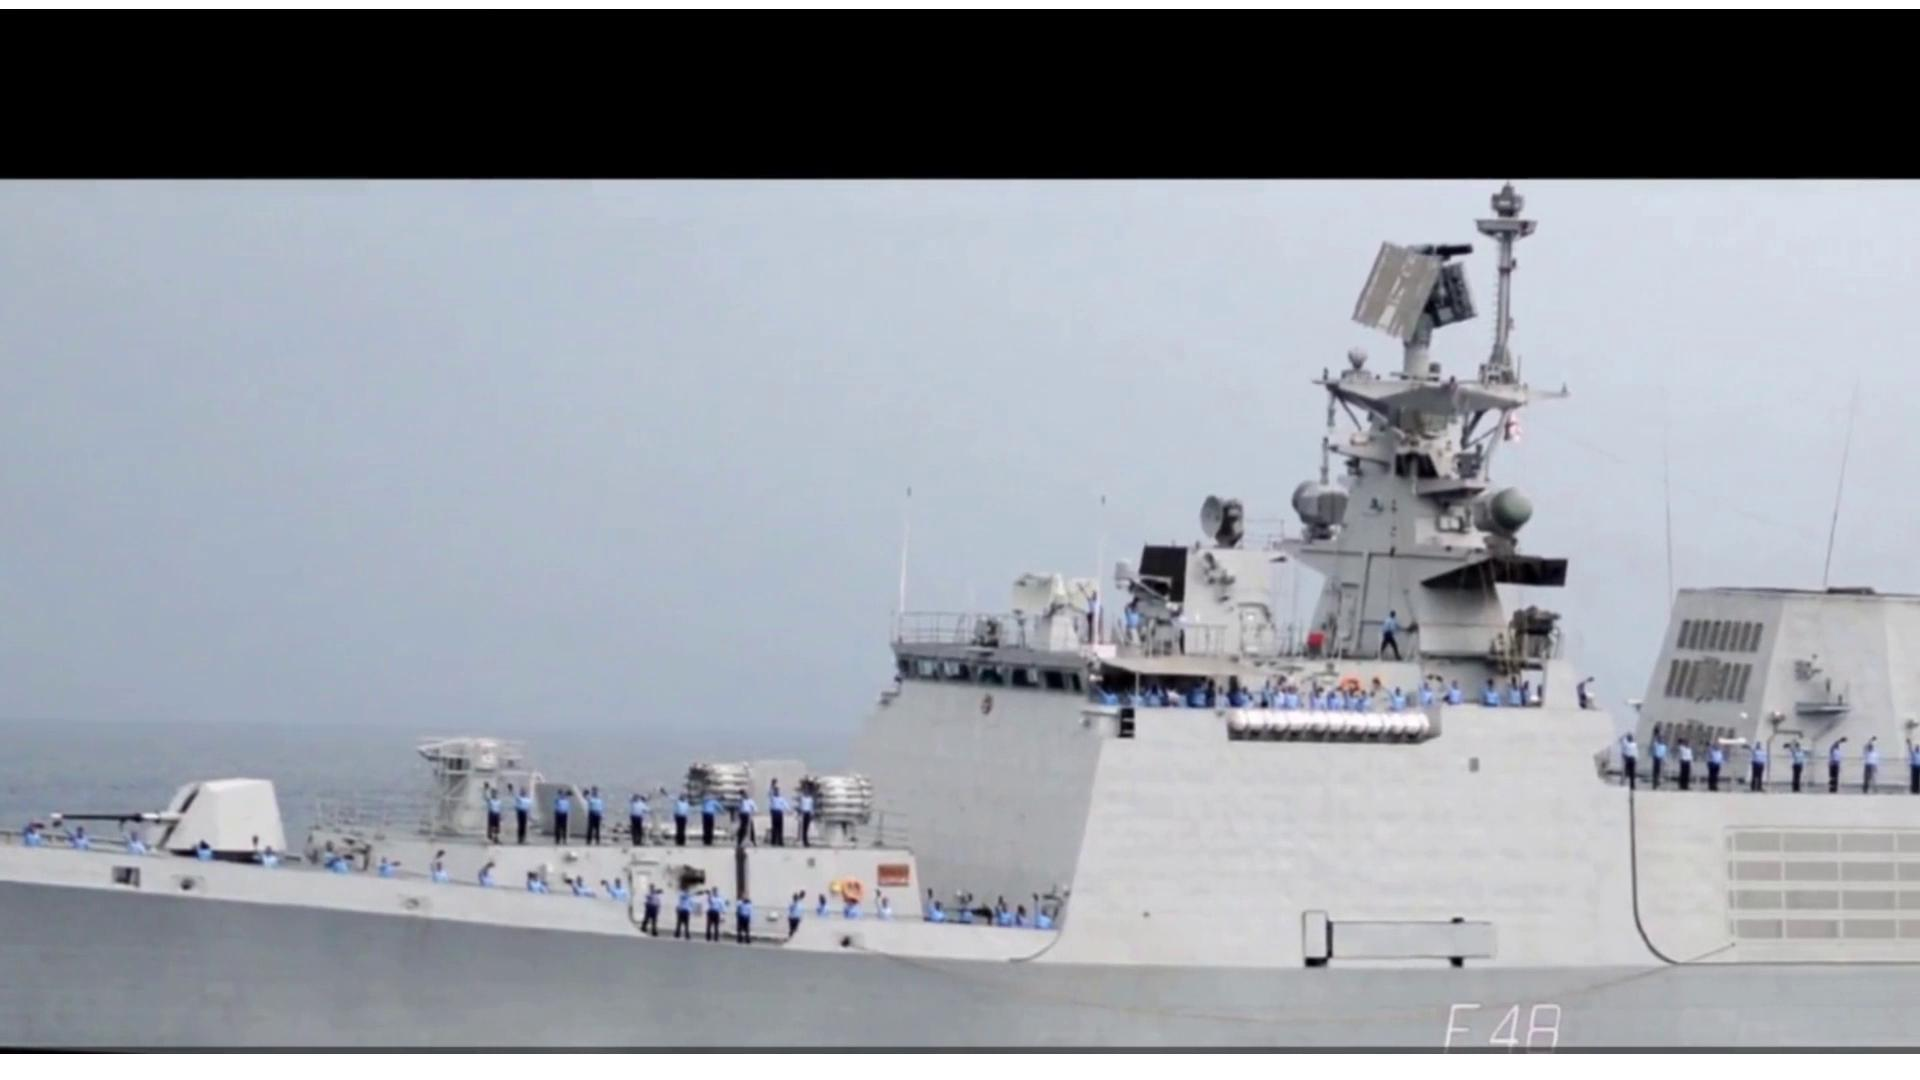OCR: (1416, 990, 1575, 1052)
